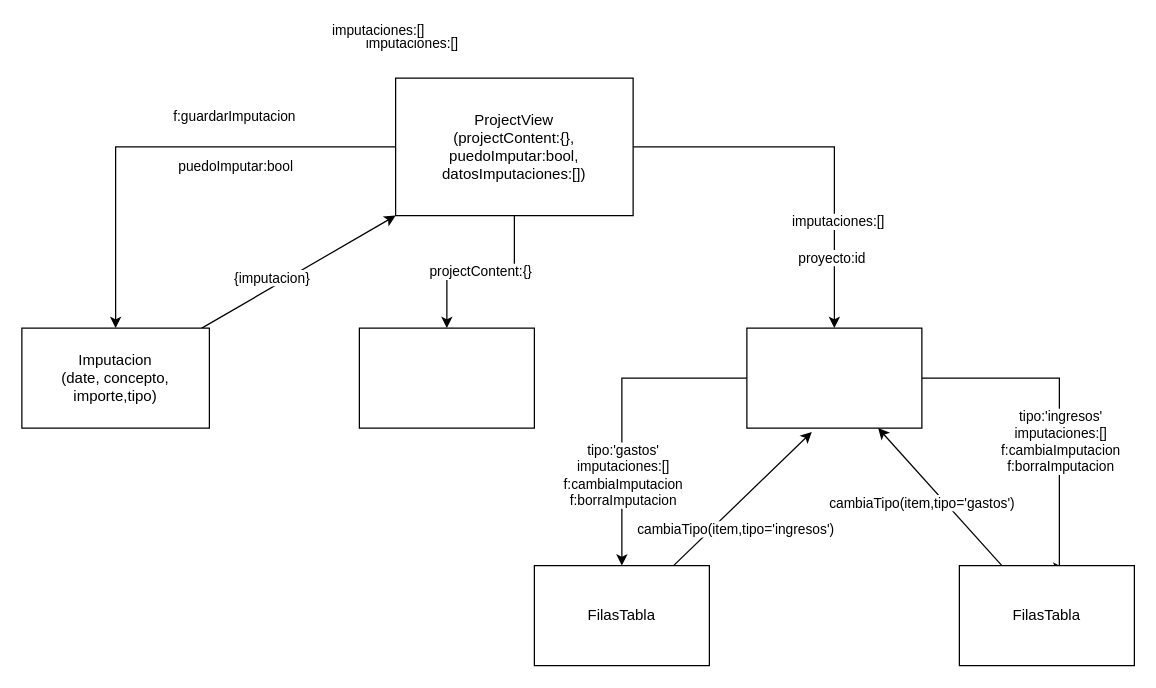
This 1156x688 diagram has some shape labels left out. Each missing label, with the centre of its shape:
ProjectCard: the point at 446,377
TablaImputaciones (datosImputaciones:[]): the point at 834,377
